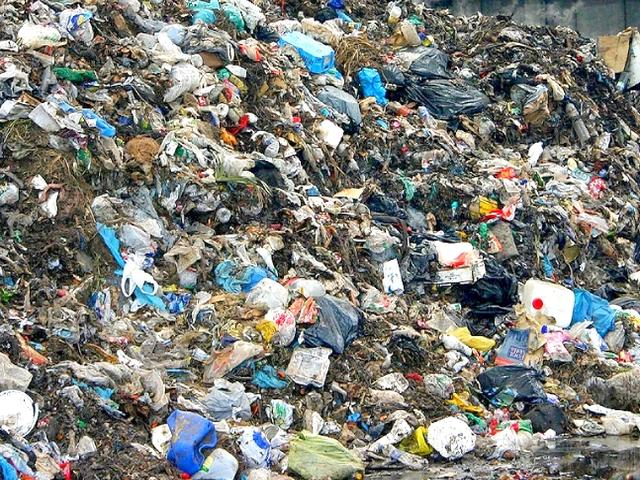garbage: (36, 25, 637, 470)
